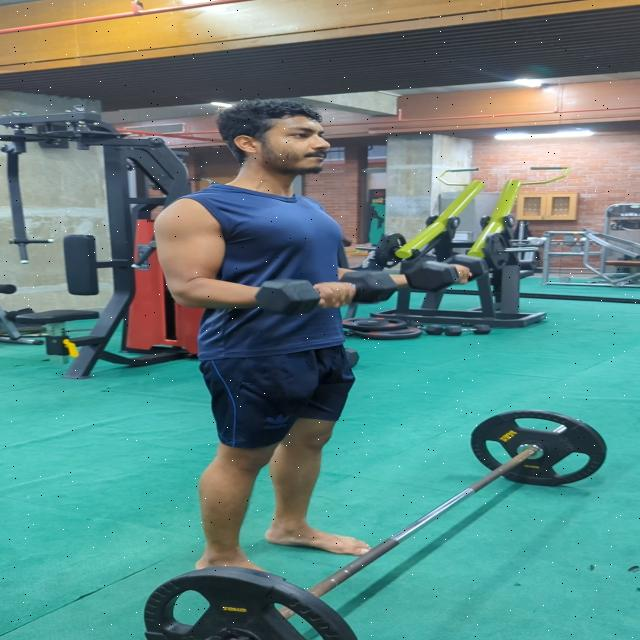Normal_DumbbellBicepCurls: (152, 99, 482, 584)
